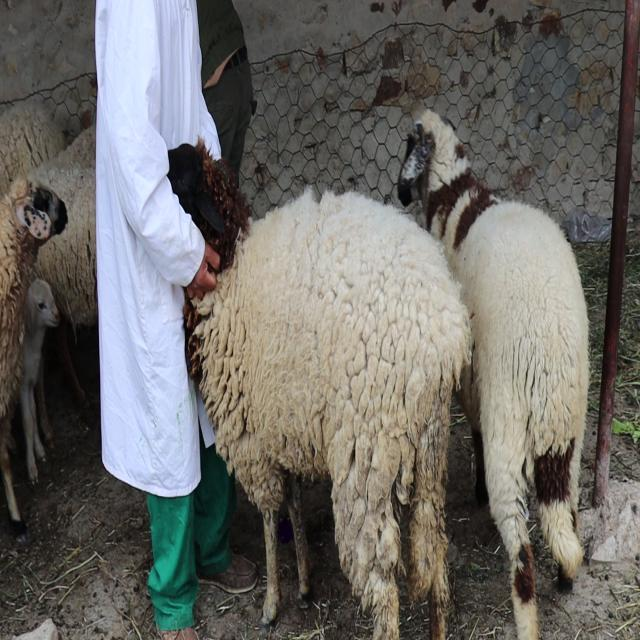Score_3: (168, 137, 472, 639)
